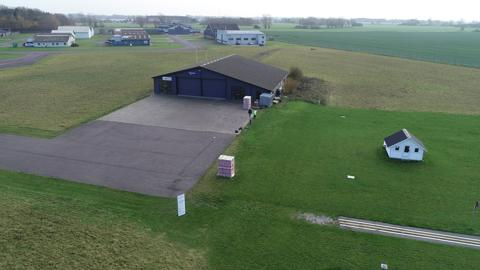RockwoolPallet: (217, 154, 236, 178)
